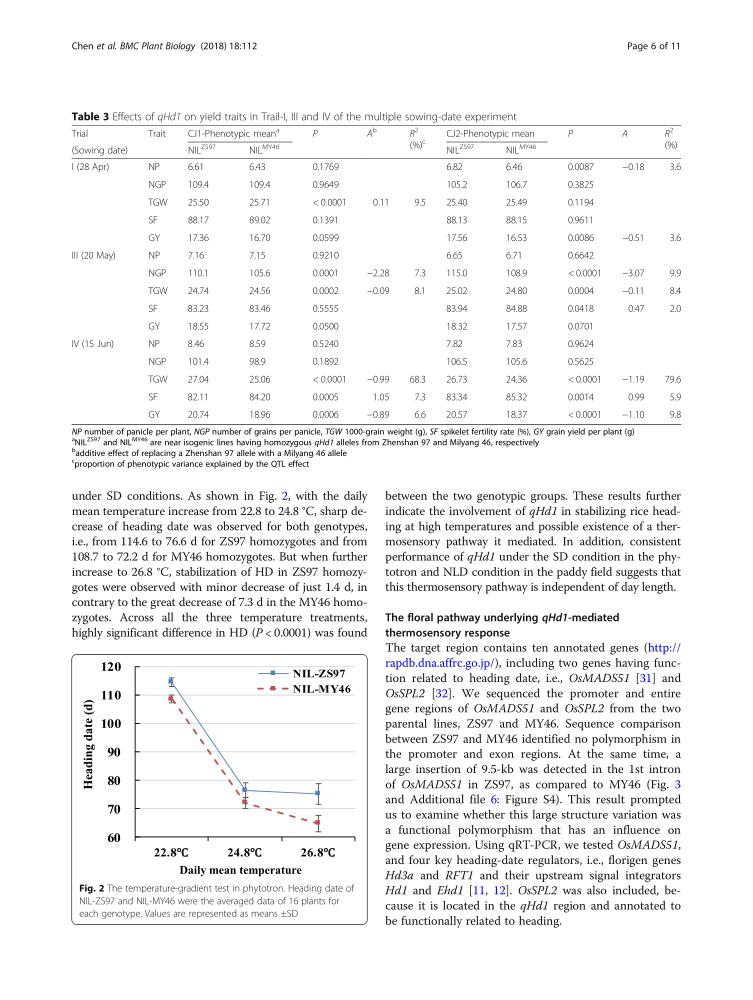table: (71, 126, 680, 420)
